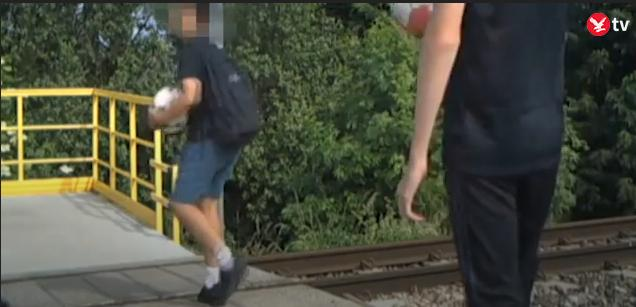person: (396, 1, 571, 307), (139, 0, 263, 307)
